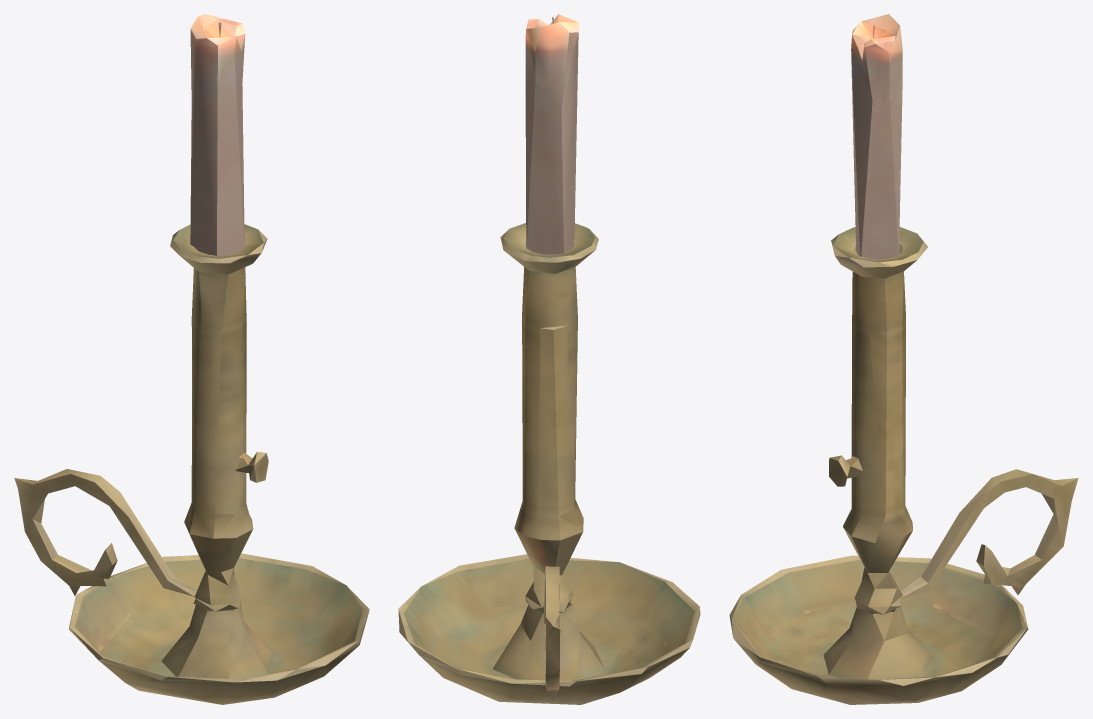
The model's file is candlestick-brass-b.lod1.glb.
3 renders of one model, left to right at view 1: azimuth 30°, elevation 25°; view 2: azimuth 150°, elevation 25°; view 3: azimuth 270°, elevation 25°, orthographic.
Visible parts, largest first — view 1: candlestick-brass-b; view 2: candlestick-brass-b; view 3: candlestick-brass-b.
Boxes of the visible parts, x1,y1,x2,y2 form: candlestick-brass-b: [14, 14, 369, 704]; candlestick-brass-b: [398, 14, 700, 704]; candlestick-brass-b: [729, 14, 1078, 704].
Bounding box in the file's own units: 0.1227 × 0.2958 × 0.144.
Materials: 1 (1 with a texture image).
